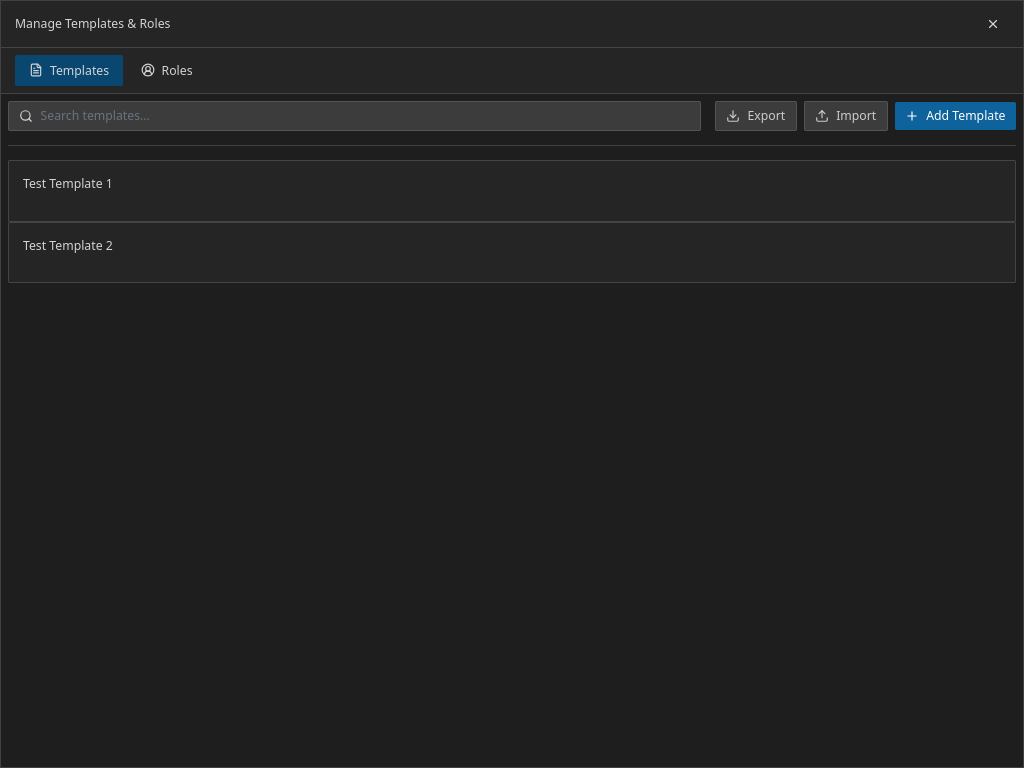
Test: ManageModal › switches to roles tab when clicked
The width and height of the screenshot is (1024, 768).
Note: Click on roles tab
Click the button "Roles".
click(167, 70)  # box [127,54,207,86]
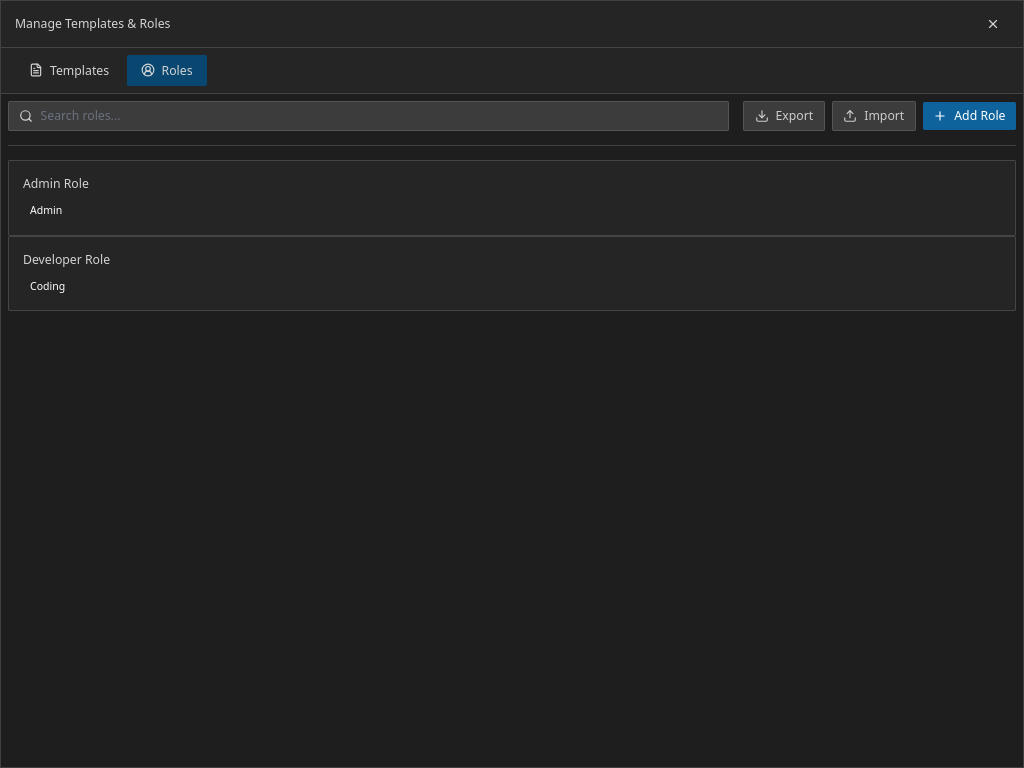
expect the heading "Admin Role" is shown: met, box [23,175,89,192]
expect the heading "Developer Role" is shown: met, box [23,250,110,268]
